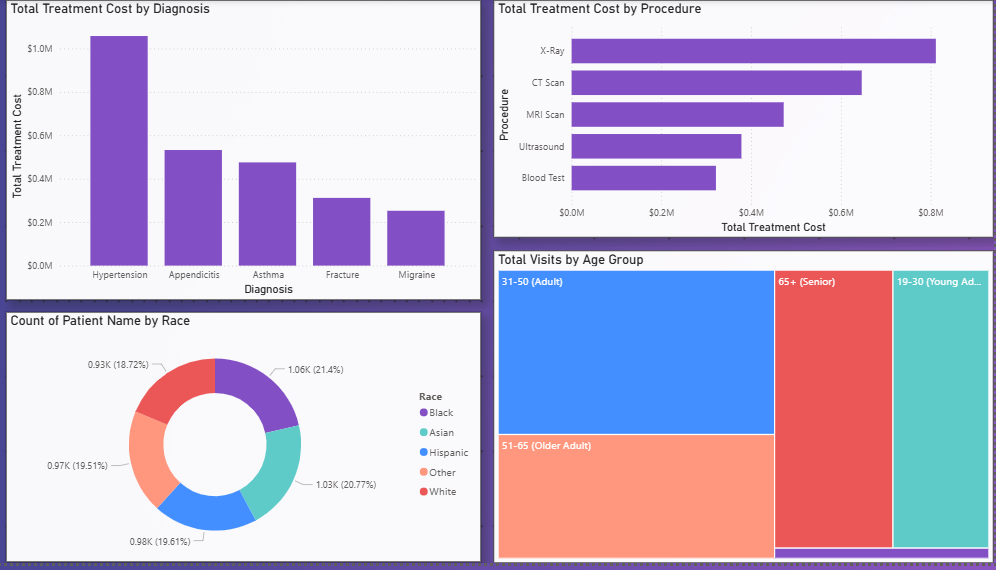

What the dashboard file says about the page in this screenshot:
{"tool":"powerbi","page":{"name":"Additional Insights","canvas":[1280,720],"ordinal":3},"visuals":[{"type":"clusteredColumnChart","fields":{"Category":["diagnoses.Diagnosis"],"Y":["visits.Total Treatment Cost"]},"box":[16,0,608,384],"z":0},{"type":"clusteredBarChart","fields":{"Category":["procedures.Procedure"],"Y":["visits.Total Treatment Cost"]},"box":[640,0,640,304],"z":1},{"type":"donutChart","fields":{"Category":["patients.Race"],"Y":["CountNonNull(patients.Patient Name)"]},"box":[16,400,608,320],"z":2},{"type":"treemap","fields":{"Group":["patients.Age Group"],"Values":["visits.Total Visits"]},"box":[640,320,640,400],"z":3}]}

Visuals, with their boxes in screenshot pixels (x1, y1, x2, y2), scaled from the page's 1280x720 canvas onto the 996x570 screenshot:
clusteredColumnChart - diagnoses.Diagnosis x visits.Total Treatment Cost: (x1=12, y1=0, x2=486, y2=304)
clusteredBarChart - procedures.Procedure x visits.Total Treatment Cost: (x1=498, y1=0, x2=995, y2=241)
donutChart - patients.Race x CountNonNull(patients.Patient Name): (x1=12, y1=317, x2=486, y2=569)
treemap - patients.Age Group x visits.Total Visits: (x1=498, y1=253, x2=995, y2=569)
